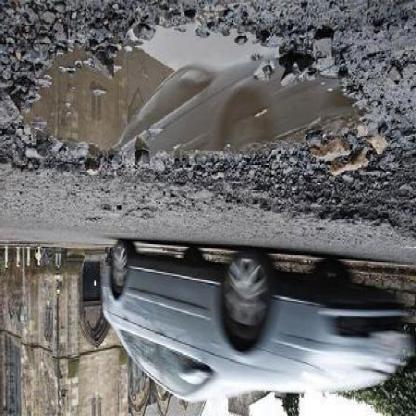pothole: (6, 19, 376, 199)
